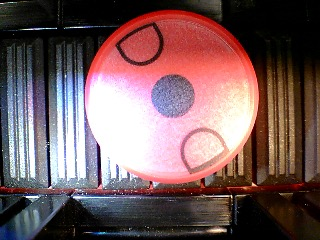BOHOMIPO2: (84, 9, 260, 184)
